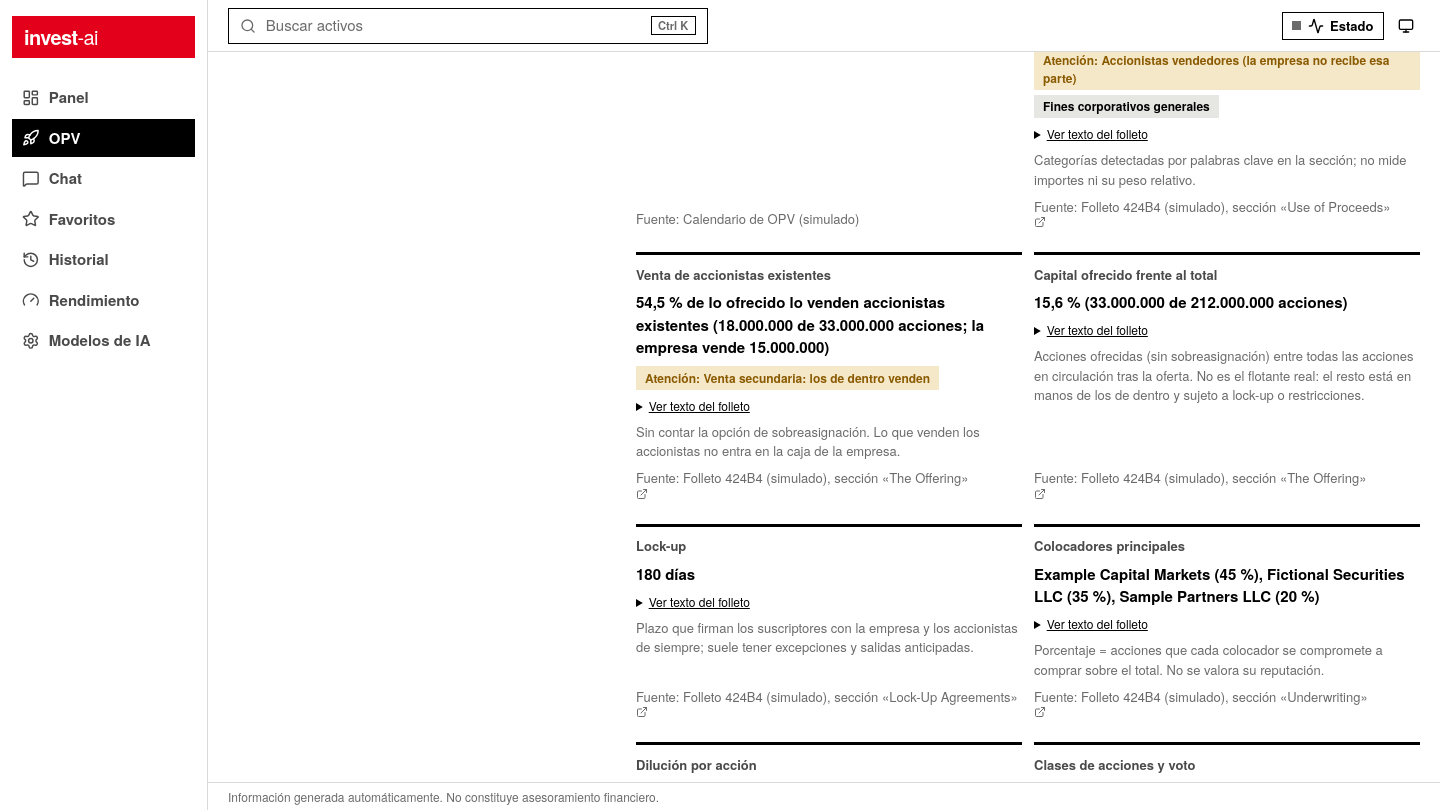
OPV › banderas de atención y texto del folleto en ORFS
The width and height of the screenshot is (1440, 810).
(page scrolled)
Check: the text "54,5 % de lo ofrecido lo venden accionistas existentes" is shown, box [636, 291, 984, 358]
Check: the text "Atención: Venta secundaria: los de dentro venden" is shown, box [636, 366, 939, 390]
Click the heading "Ver texto del folleto" below "Venta secundaria: los de dentro venden" at (699, 405), box [649, 397, 750, 414]
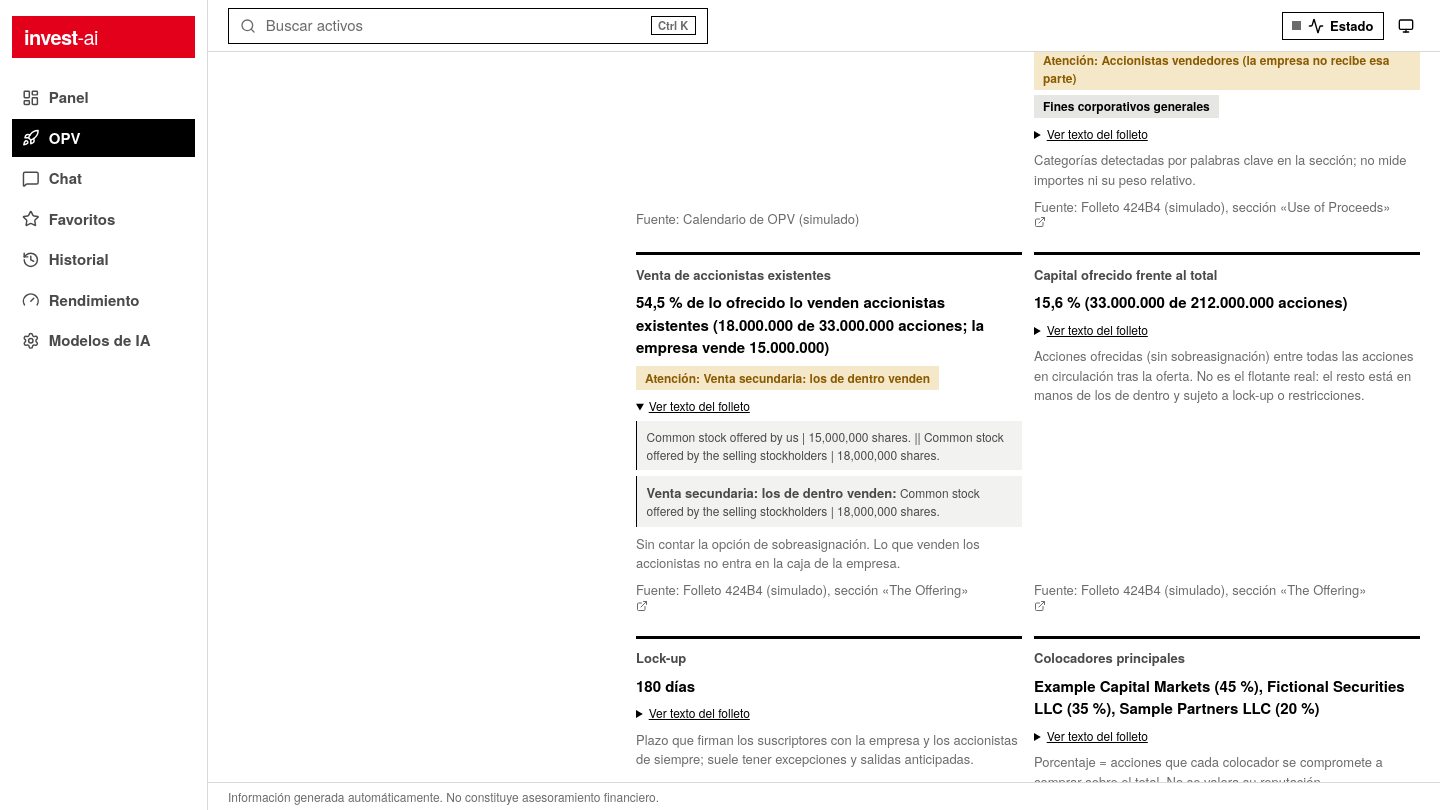
Check: the text "selling stockholders" is shown, box [647, 428, 1004, 463]
